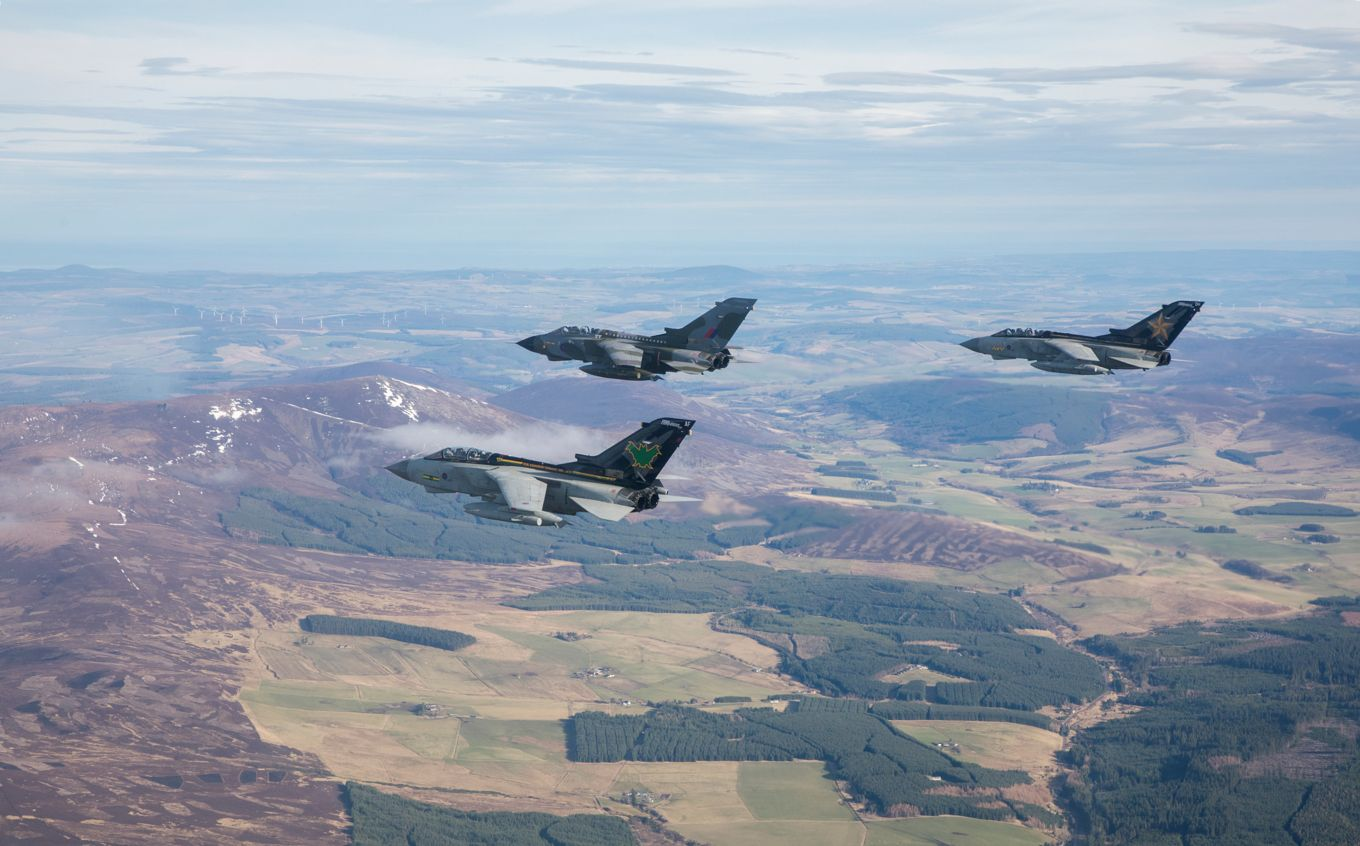Tornado: (372, 416, 704, 529), (504, 297, 762, 382), (948, 300, 1206, 376)
